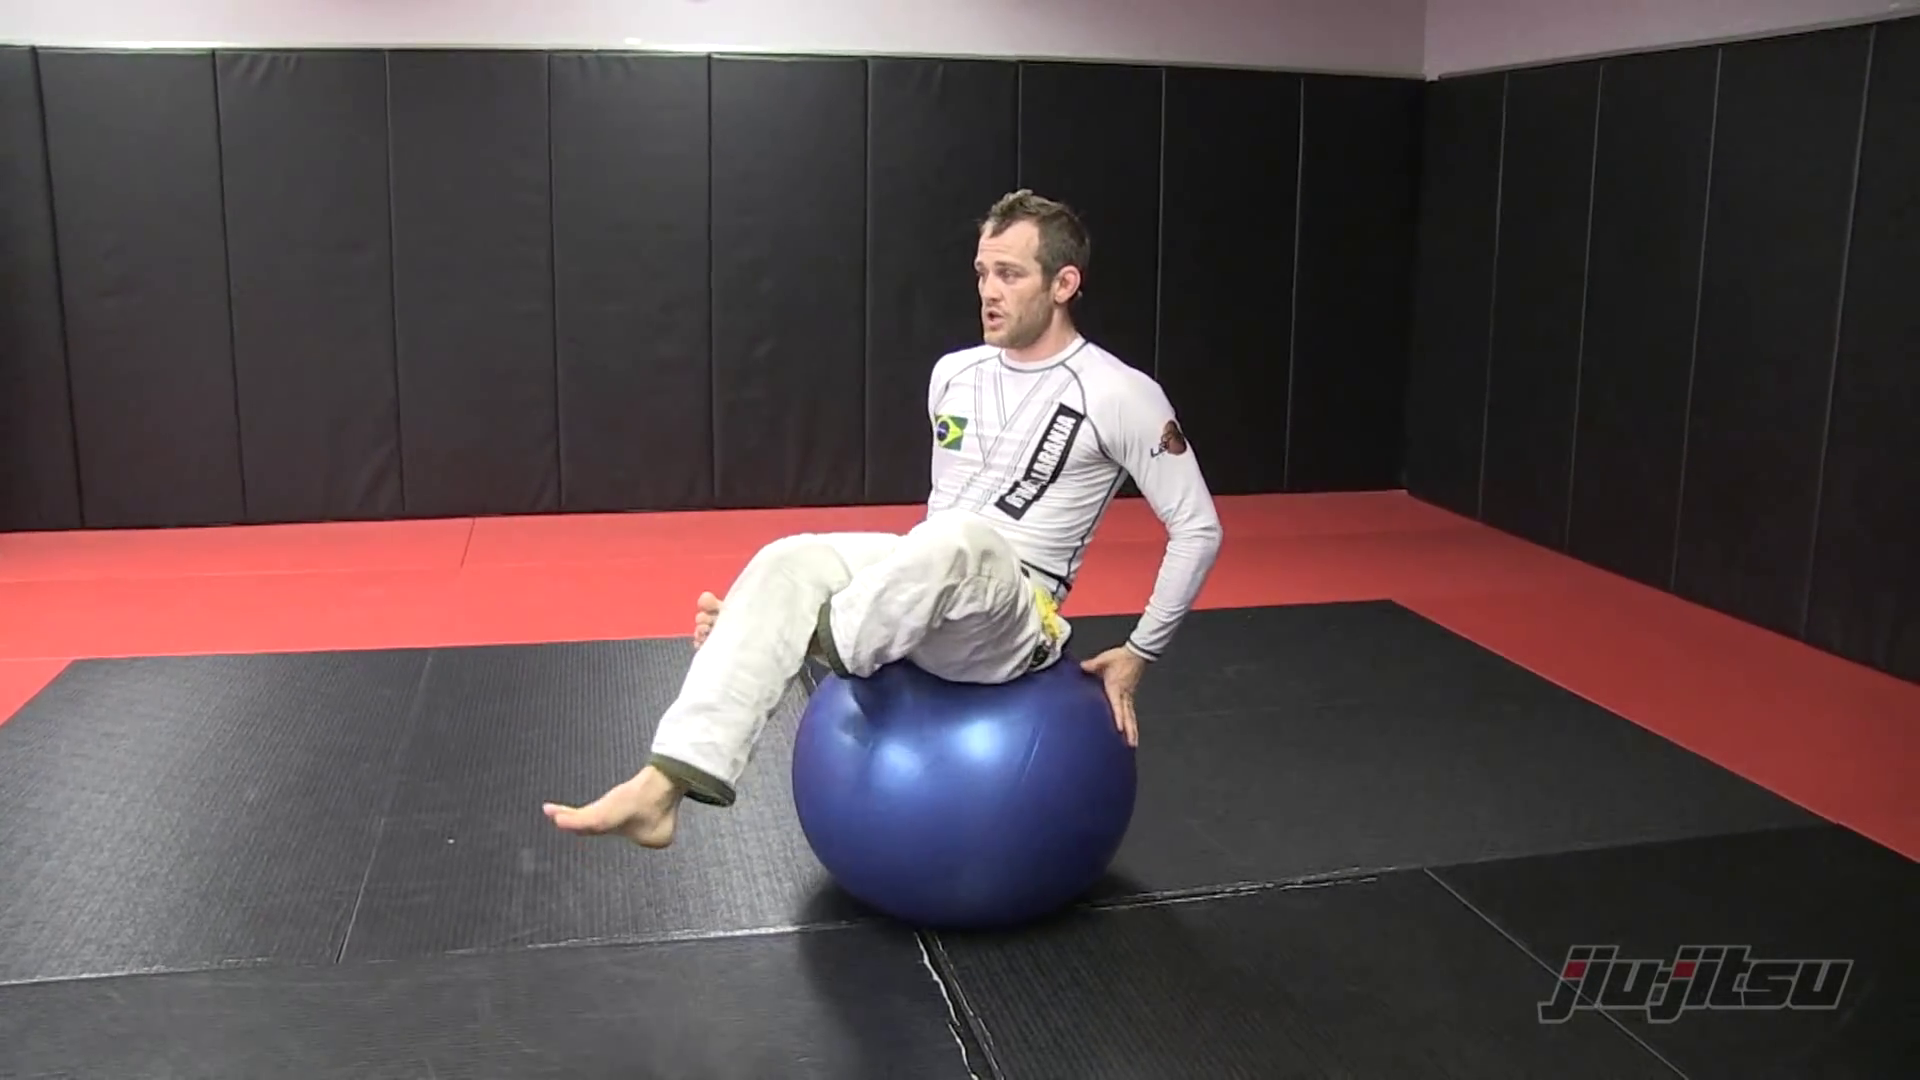yogaball: (778, 624, 1154, 945)
